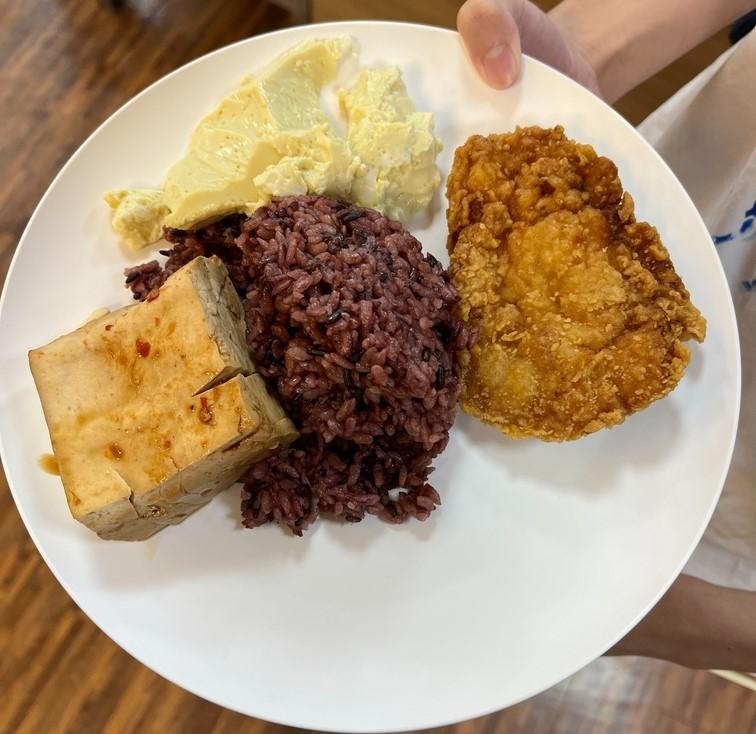big fried chicken leg: (2, 22, 743, 734)
braised fish: (174, 185, 455, 538)
braised fish fillet: (25, 249, 298, 550), (107, 25, 449, 256)
braised pork: (435, 124, 702, 438)
